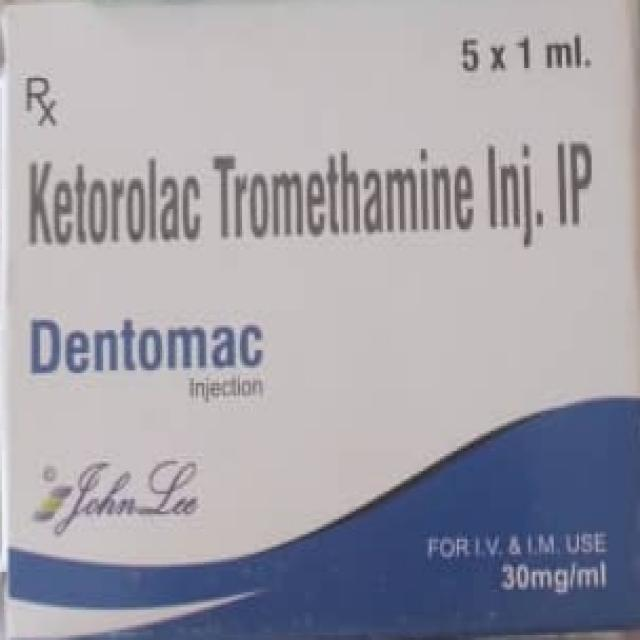drug-name: (29, 314, 268, 376)
